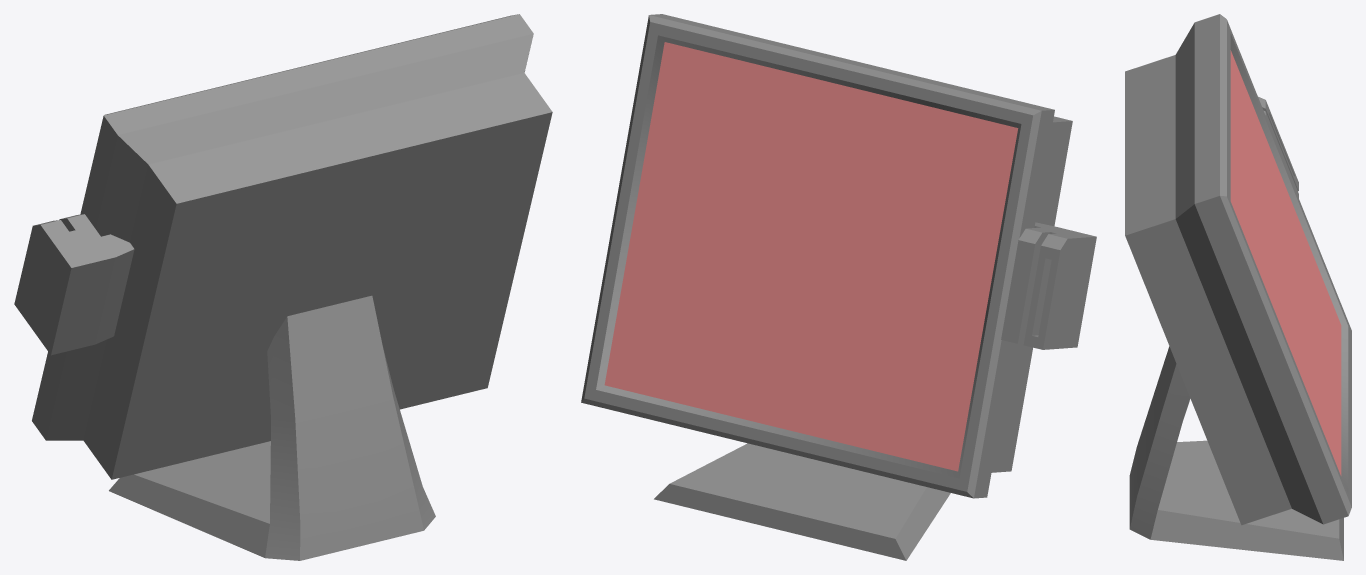
File: Pos.FBX
The picture shows the model from 3 angles, left to right: view 1: azimuth 30°, elevation 25°; view 2: azimuth 150°, elevation 25°; view 3: azimuth 270°, elevation 25°; orthographic projection. The views are drawn at different scales.
Parts seen in each view (by area): view 1: watch monitor003; view 2: watch monitor003; view 3: watch monitor003.
Boxes of the visible parts, x1=… form: watch monitor003: x1=14, y1=14, x2=552, y2=560; watch monitor003: x1=581, y1=14, x2=1096, y2=560; watch monitor003: x1=1125, y1=14, x2=1351, y2=560.
Bounding box in the file's own units: 44.35 × 21.09 × 40.8.
